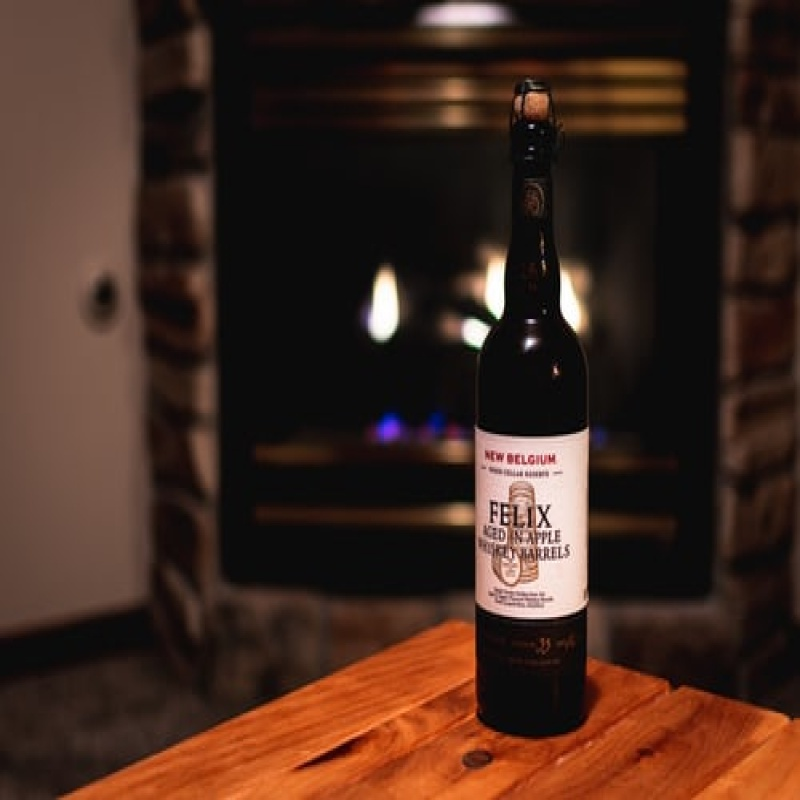wine: (476, 121, 591, 735)
